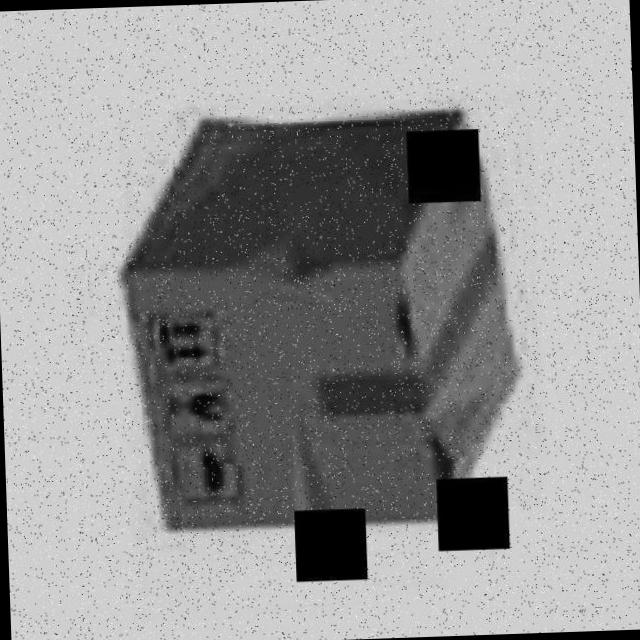box: (110, 85, 536, 544)
